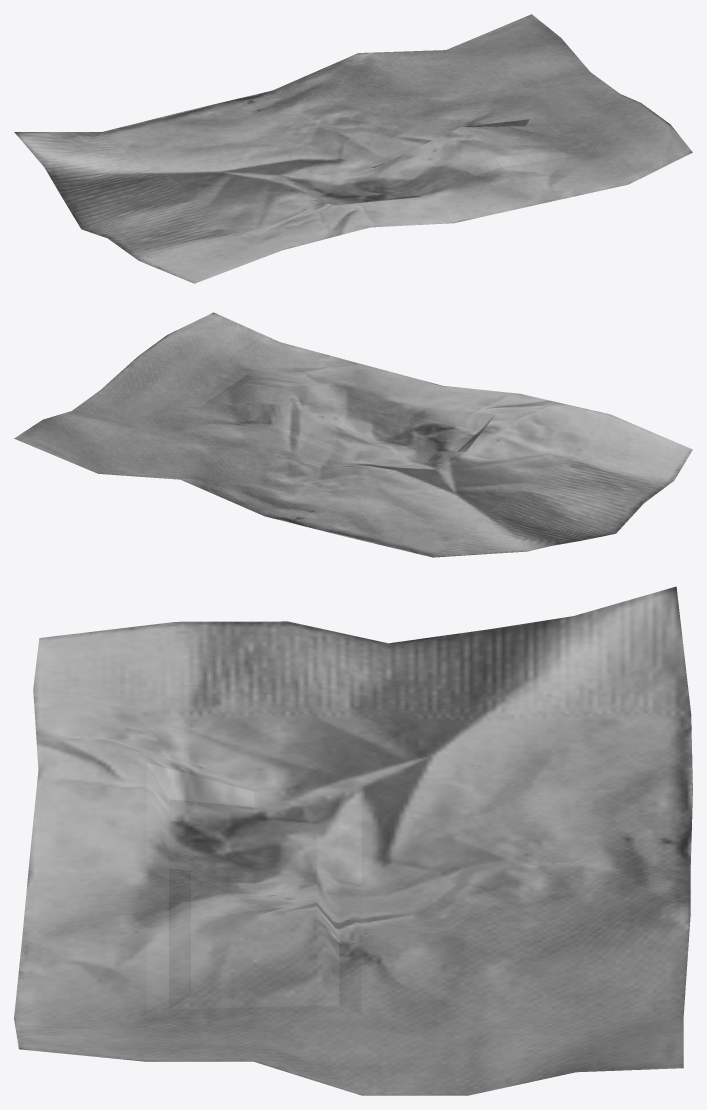
The model's file is napkin_5.fbx.
The picture shows the model from 3 angles, top to bottom: view 1: azimuth 30°, elevation 25°; view 2: azimuth 150°, elevation 25°; view 3: azimuth 270°, elevation 25°; orthographic projection. The views are drawn at different scales.
Parts seen in each view (by area): view 1: napkin_5; view 2: napkin_5; view 3: napkin_5.
Boxes of the visible parts, x1,y1,x2,y2 form: napkin_5: (14, 14, 692, 283); napkin_5: (14, 312, 692, 557); napkin_5: (14, 586, 692, 1095).
Size of the model in its own units: 25.4 by 1.68 by 15.38.
